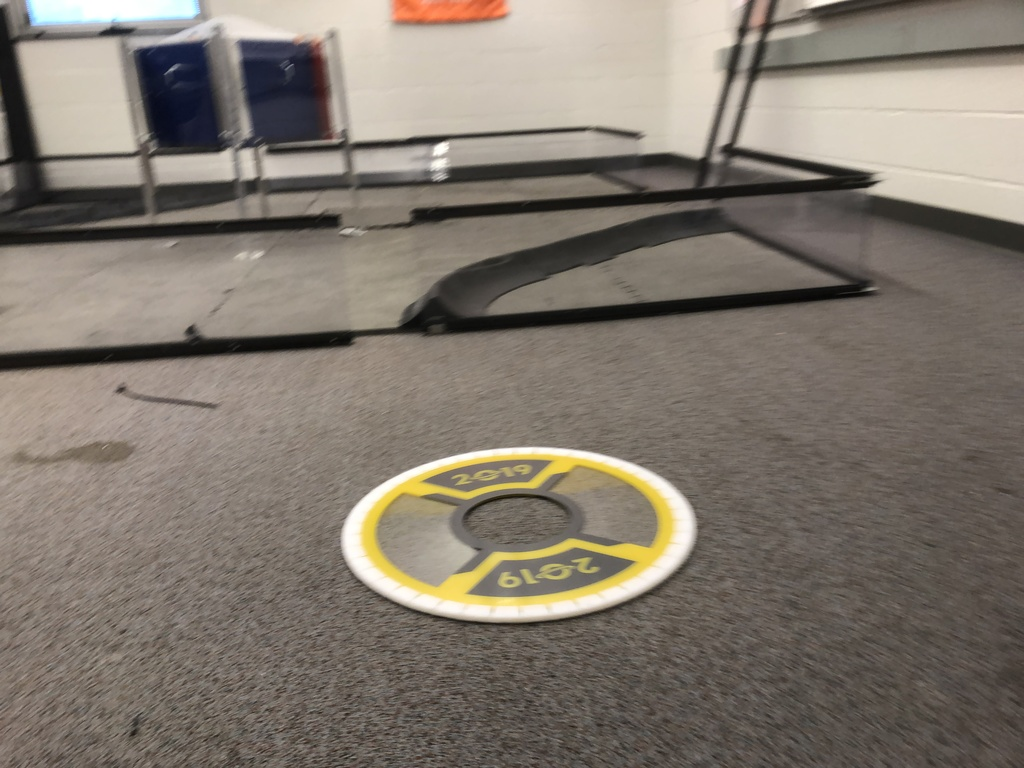hatch_panel: (324, 430, 724, 628)
